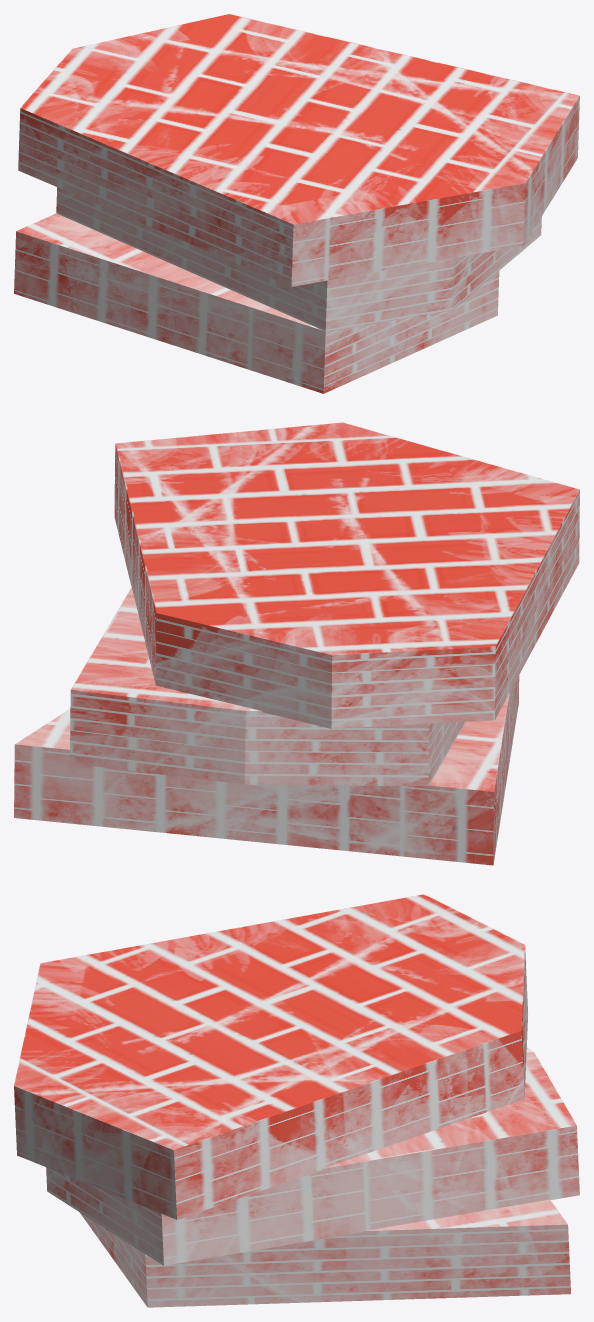
Rendered from DestroçosTijolo2.fbx.
The picture shows the model from 3 angles, top to bottom: view 1: azimuth 30°, elevation 25°; view 2: azimuth 150°, elevation 25°; view 3: azimuth 270°, elevation 25°; orthographic projection. The views are drawn at different scales.
Visible parts, largest first — view 1: Cubo.001; view 2: Cubo.001; view 3: Cubo.001.
Boxes of the visible parts, x1,y1,x2,y2 form: Cubo.001: (14, 14, 579, 393); Cubo.001: (14, 422, 579, 865); Cubo.001: (14, 894, 579, 1307).
Bounding box in the file's own units: 157 × 68.22 × 155.
